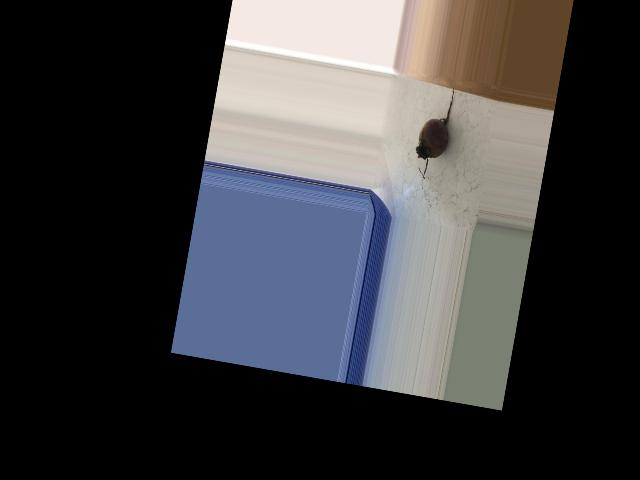beet: (411, 81, 457, 181)
